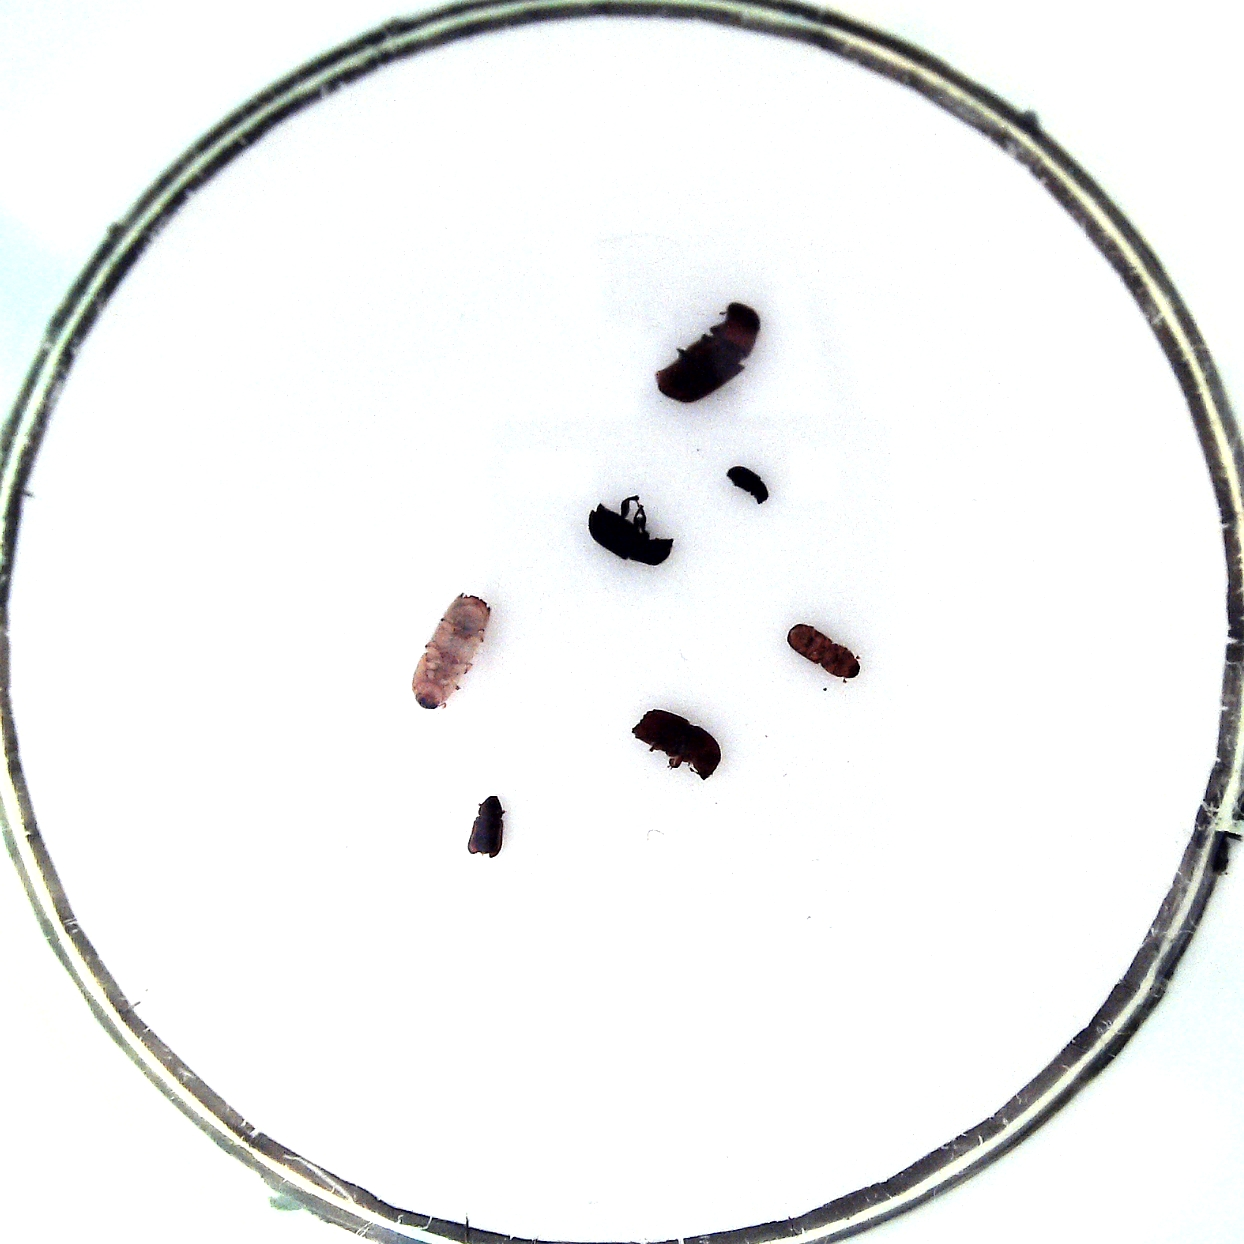Boerner: (412, 594, 490, 709)
Leconte: (654, 302, 761, 403)
acuminatus: (726, 466, 769, 504)
armandi: (588, 502, 674, 566)
coleoptera: (788, 624, 860, 679), (468, 796, 504, 859)
linnaeus: (631, 707, 721, 780)
